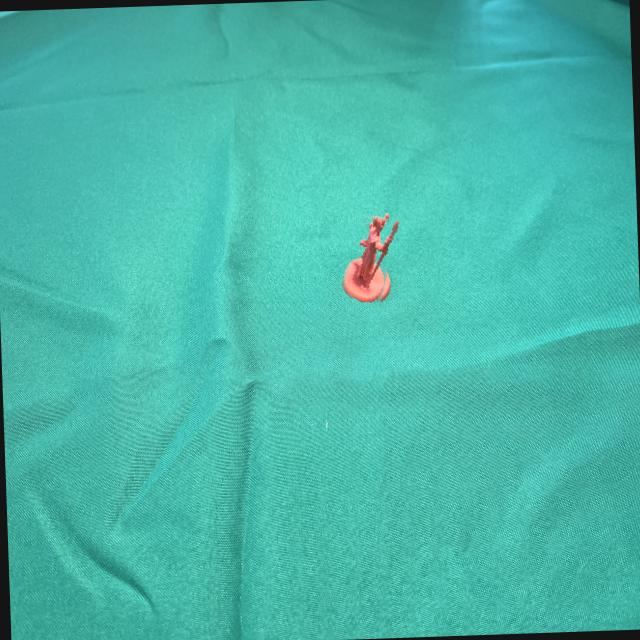amon_follower: (342, 216, 399, 303)
